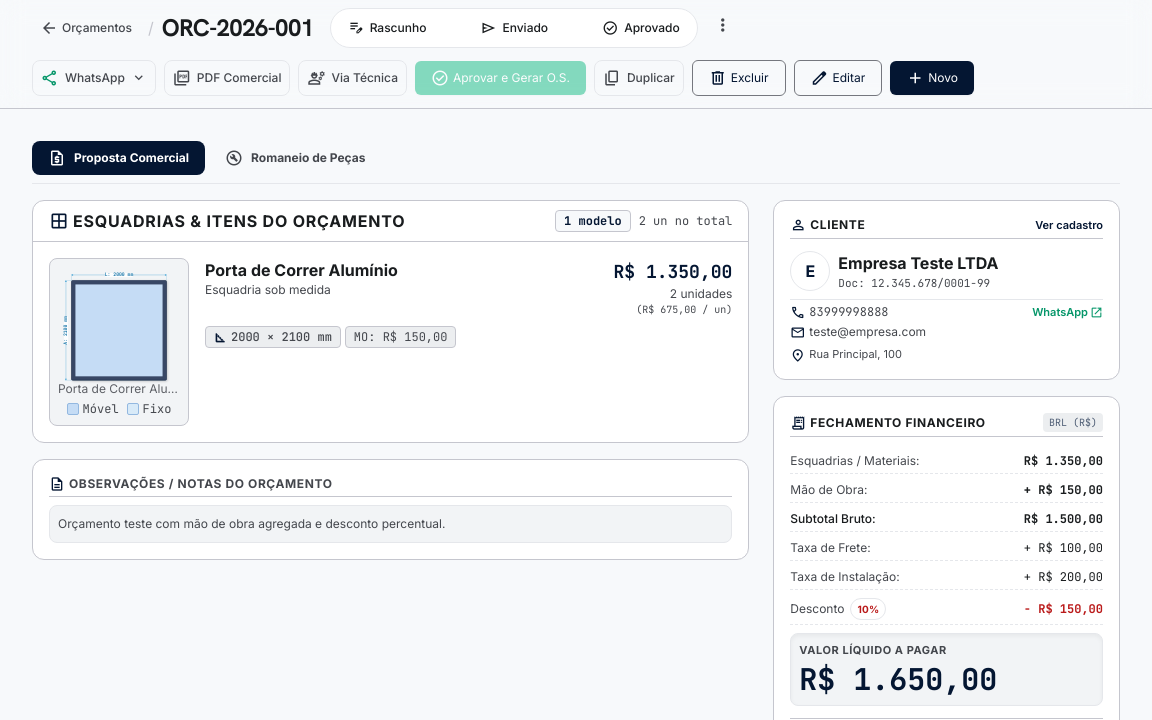
Test case: BudgetDetailPage - Testes Unitários › deve alternar para a aba Romaneio de Peças exibindo gabarito técnico e lista de corte
Click the button with test id "tab-romaneio": click(295, 158) [209, 141, 381, 175]
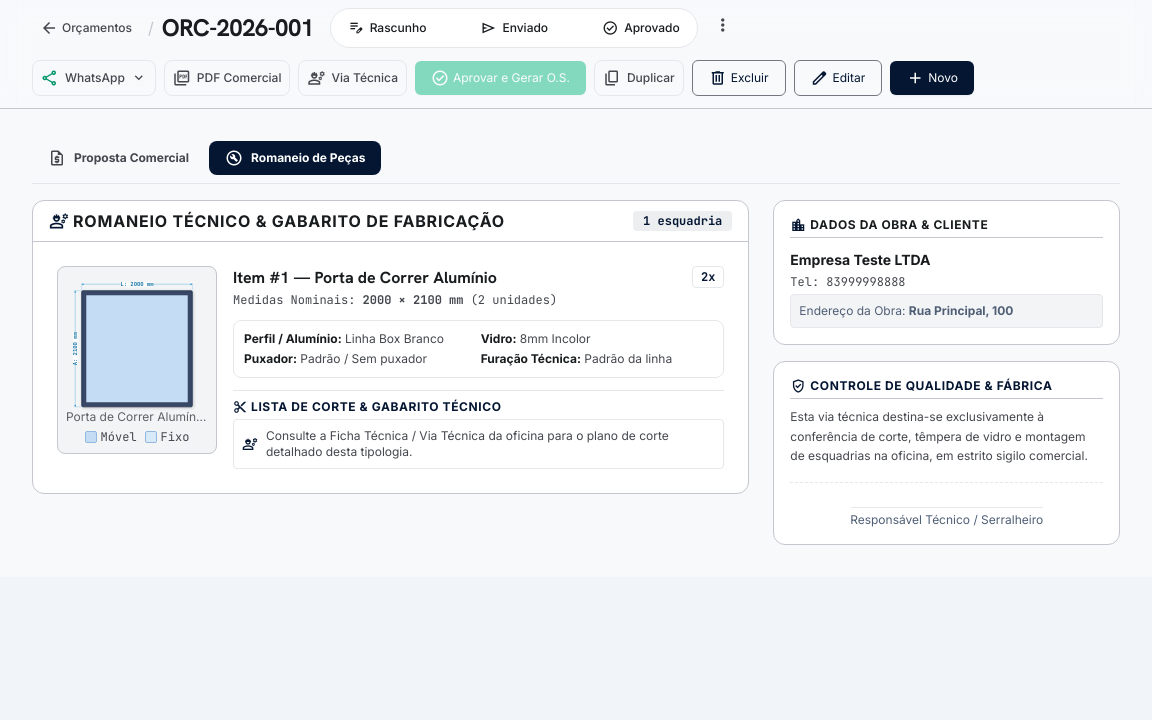
Expected: the heading "Romaneio Técnico & Gabarito de Fabricação" is shown, [73, 209, 505, 233]
Expected: the text "Lista de Corte & Gabarito Técnico" is shown, [233, 399, 502, 415]
Expected: the heading "Controle de Qualidade & Fábrica" is shown, [790, 378, 1103, 399]
# Alterna de volta para Proposta Comercial
Click the button with test id "tab-proposta": click(119, 158) [32, 141, 205, 175]
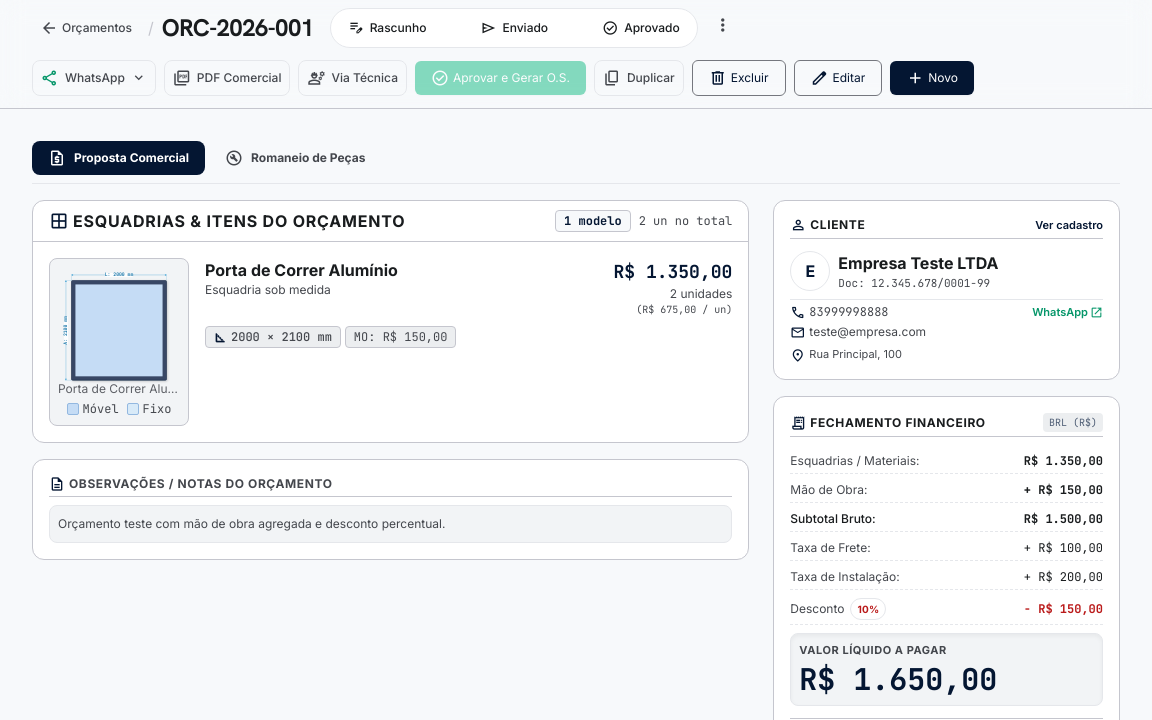
Expected: the heading "Esquadrias & Itens do Orçamento" is shown, [73, 209, 405, 233]
